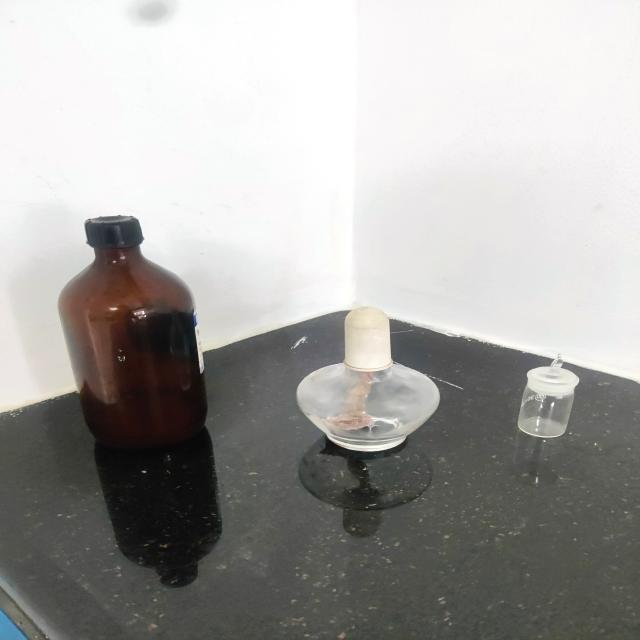Nessler_Reagent_Bottle: (47, 195, 230, 466)
Spirit_Lamp: (284, 290, 454, 472)
Weighing_Bottle: (512, 333, 602, 445)
